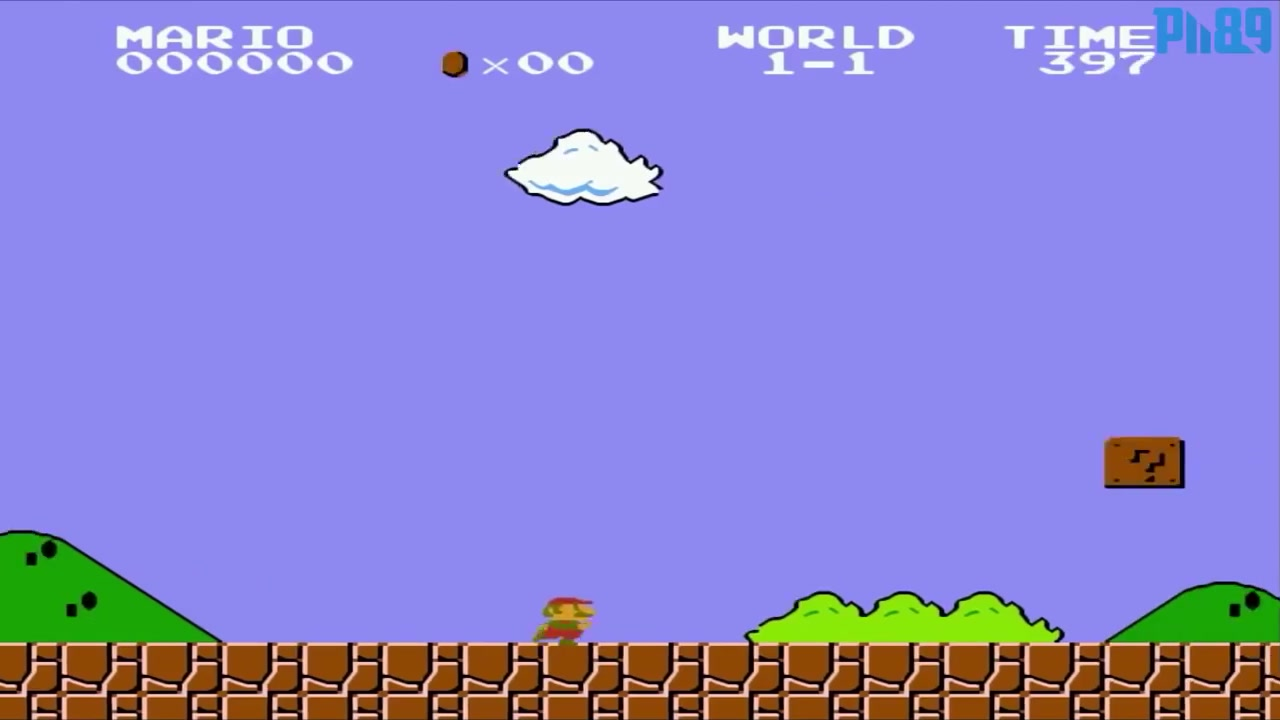mario: (525, 593, 602, 642)
